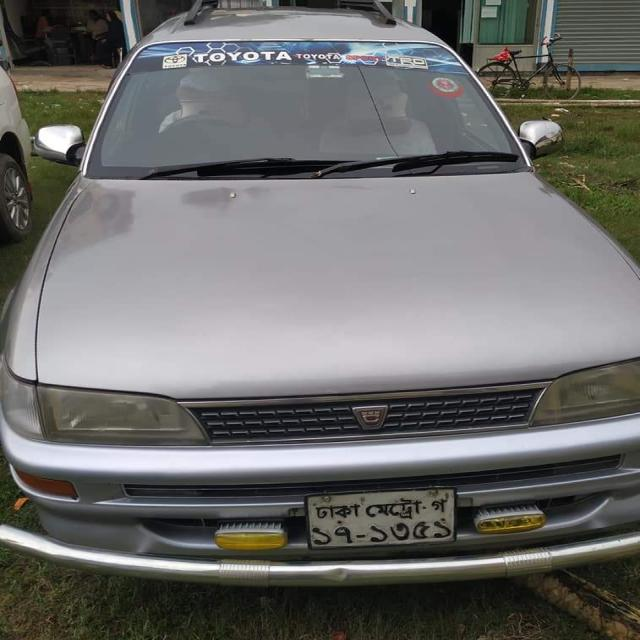silver: (10, 0, 640, 640)
